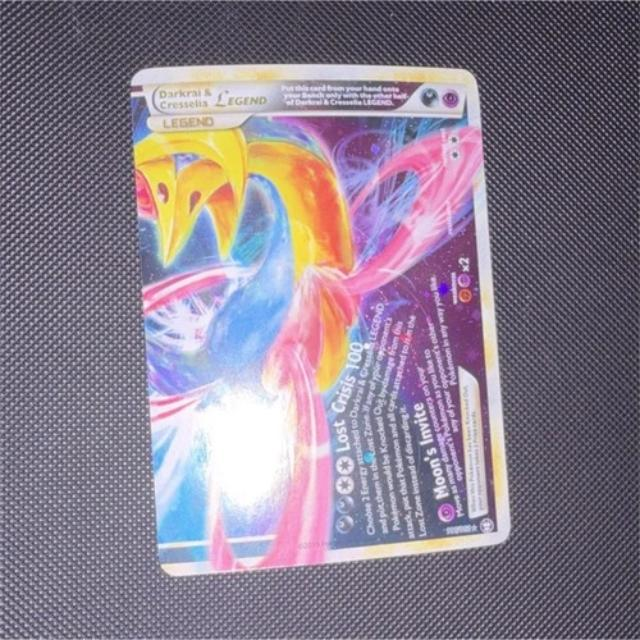Card: (125, 62, 517, 584)
Name: (151, 81, 272, 114)
